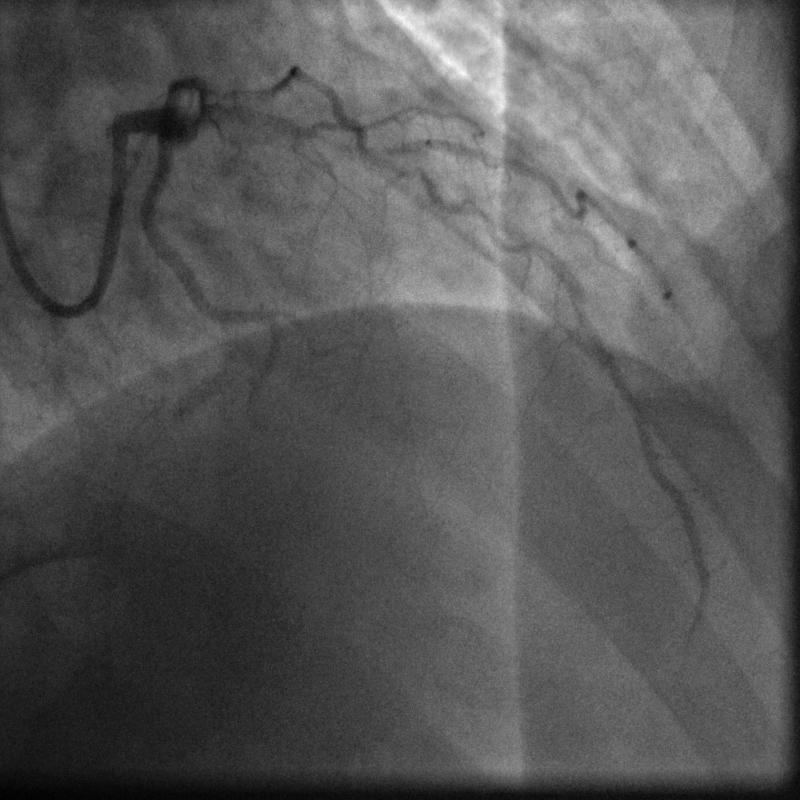Stenosis: (306, 127, 397, 164)
